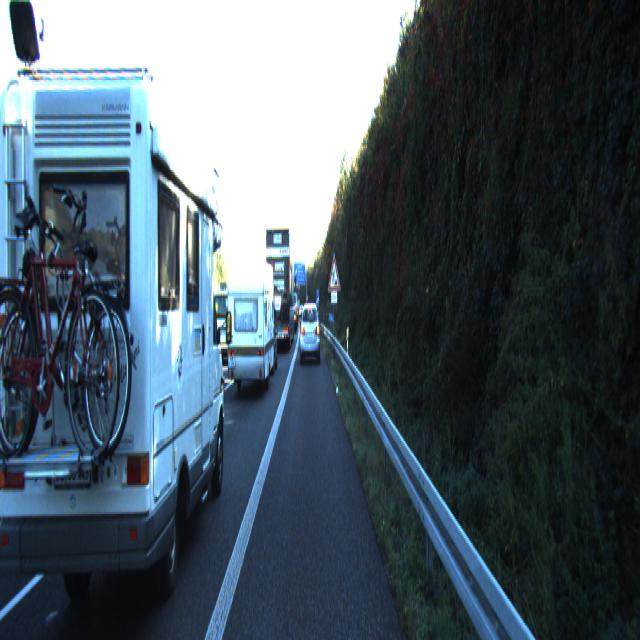Car: (0, 70, 231, 638), (0, 319, 72, 467), (226, 253, 275, 397), (266, 226, 294, 352), (299, 298, 320, 362)
